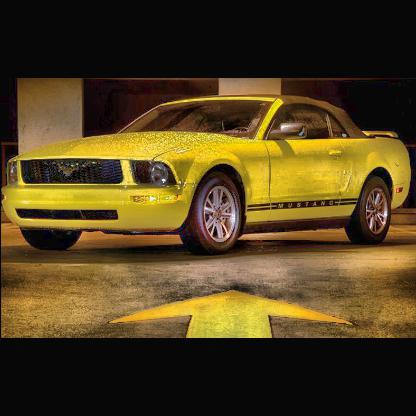Ford Mustang Convertible 2007: (2, 95, 412, 253)
